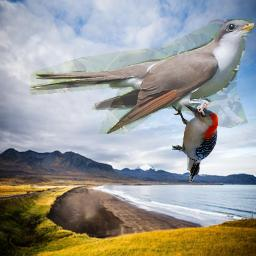Cuckoo: (30, 19, 254, 134)
Woodpecker: (172, 103, 218, 182)
